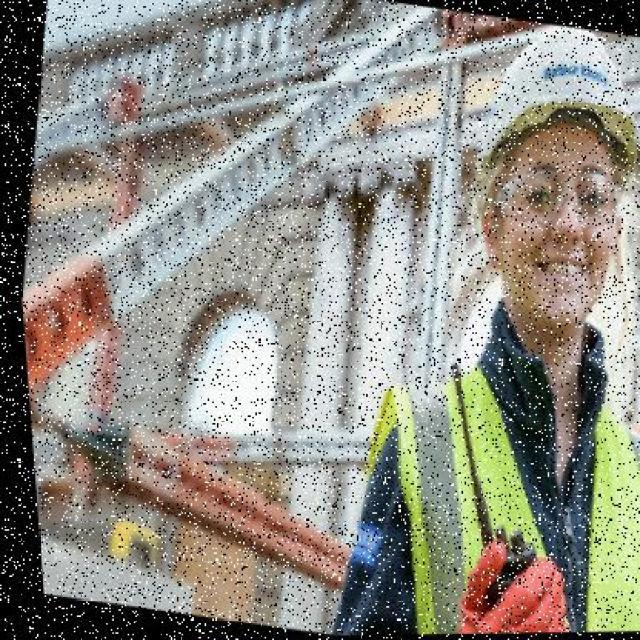helmet: (454, 17, 638, 208)
vest: (319, 314, 639, 636)
